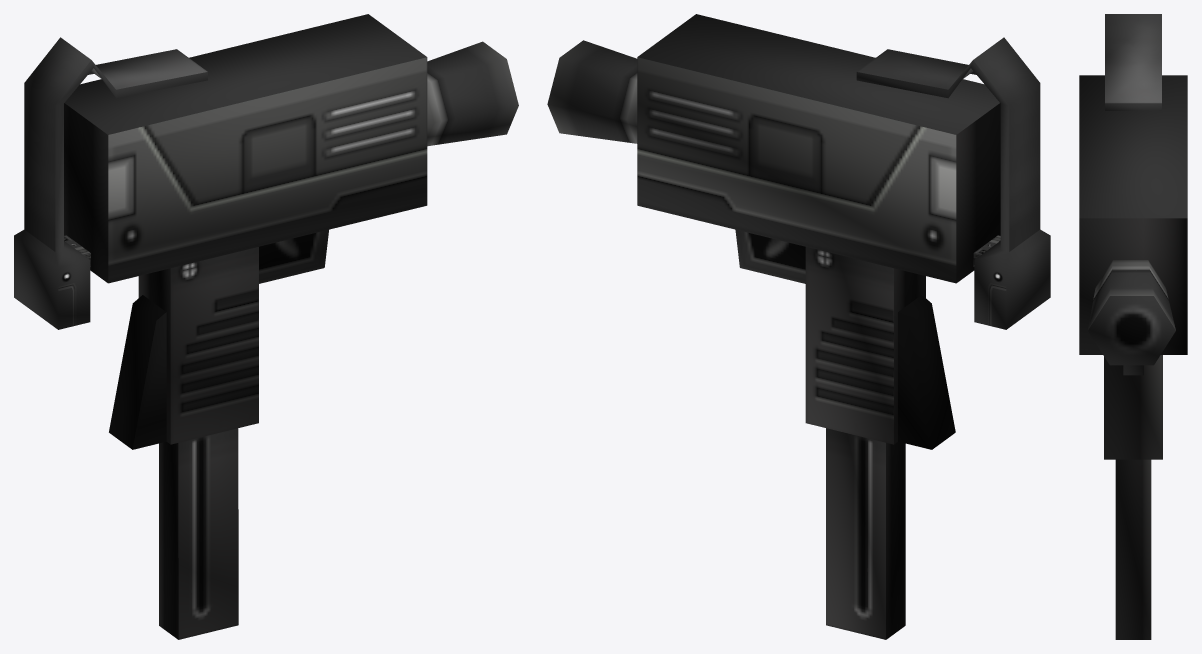
The model's file is smg uzi lv1.FBX.
3 renders of one model, left to right at view 1: azimuth 30°, elevation 25°; view 2: azimuth 150°, elevation 25°; view 3: azimuth 270°, elevation 25°, orthographic. The views are drawn at different scales.
Visible parts, largest first — view 1: Object049; view 2: Object049; view 3: Object049.
Part boxes in pixels (<box>): Object049: <box>14,14,518,639</box>; Object049: <box>547,14,1050,639</box>; Object049: <box>1079,14,1187,639</box>.
Bounding box in the file's own units: 38.63 × 48.92 × 8.62.
